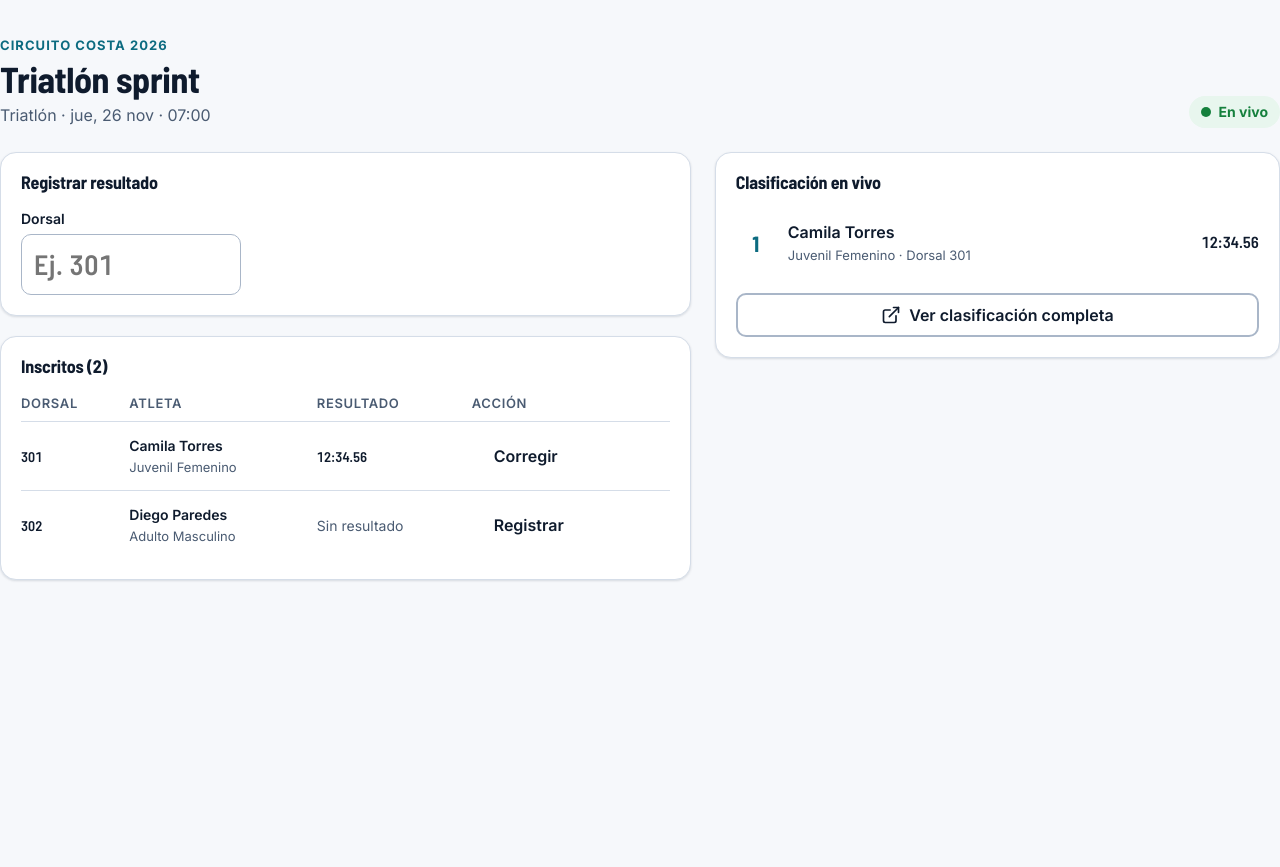
Test: RegistroTiemposPage › "Registrar" y "Corregir" cargan el dorsal en el formulario
Expected: the heading "Triatlón sprint" is shown, [0,59,211,99]
Step 1. Click the button with aria-label "Corregir resultado de Camila Torres" → click(526, 456), box [472,434,580,478]
(page scrolled)
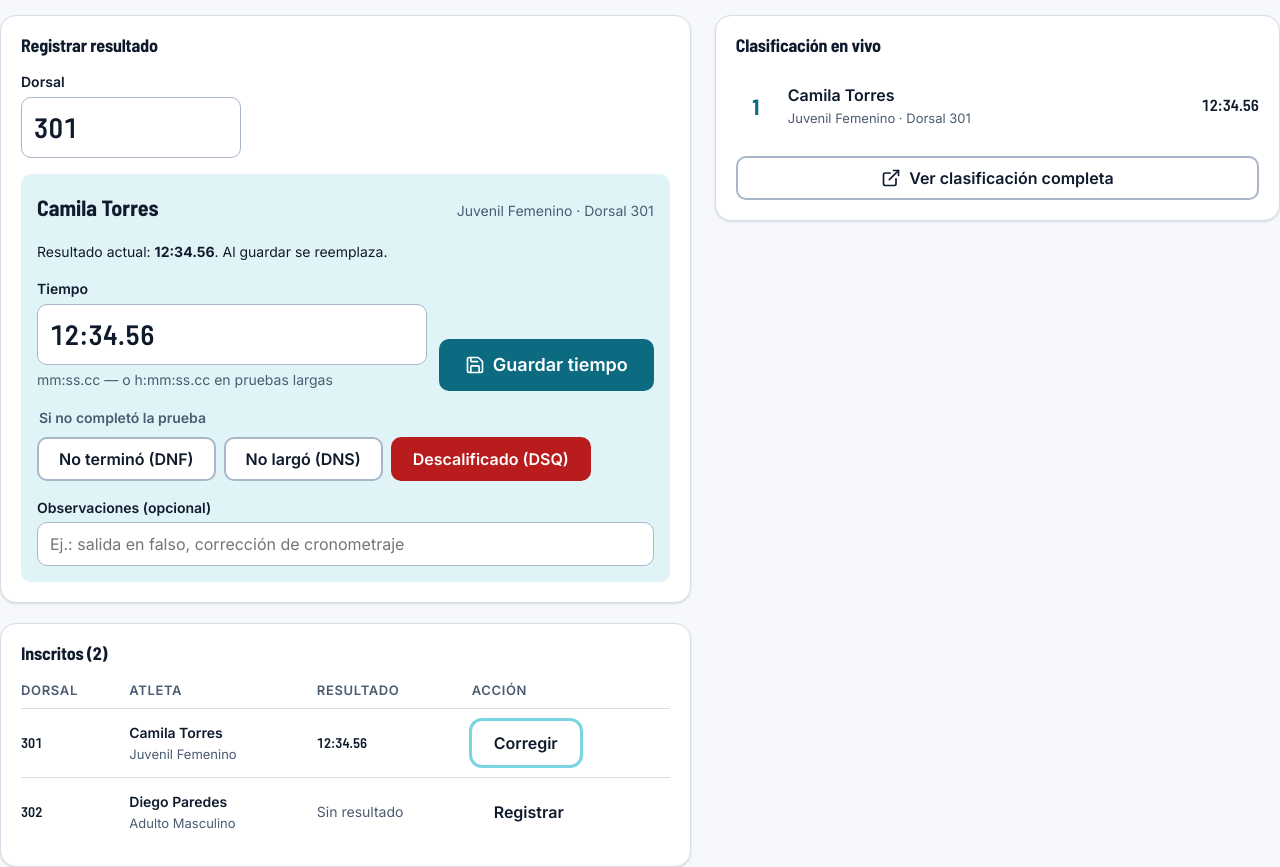
Expected: the field labelled "Dorsal" holds "301", [21,97,241,158]
Expected: the field labelled "Tiempo" holds "12:34.56", [37,304,427,365]
Step 2. Click the button with aria-label "Registrar resultado de Diego Paredes" → click(529, 812), box [472,790,586,834]
(page scrolled)
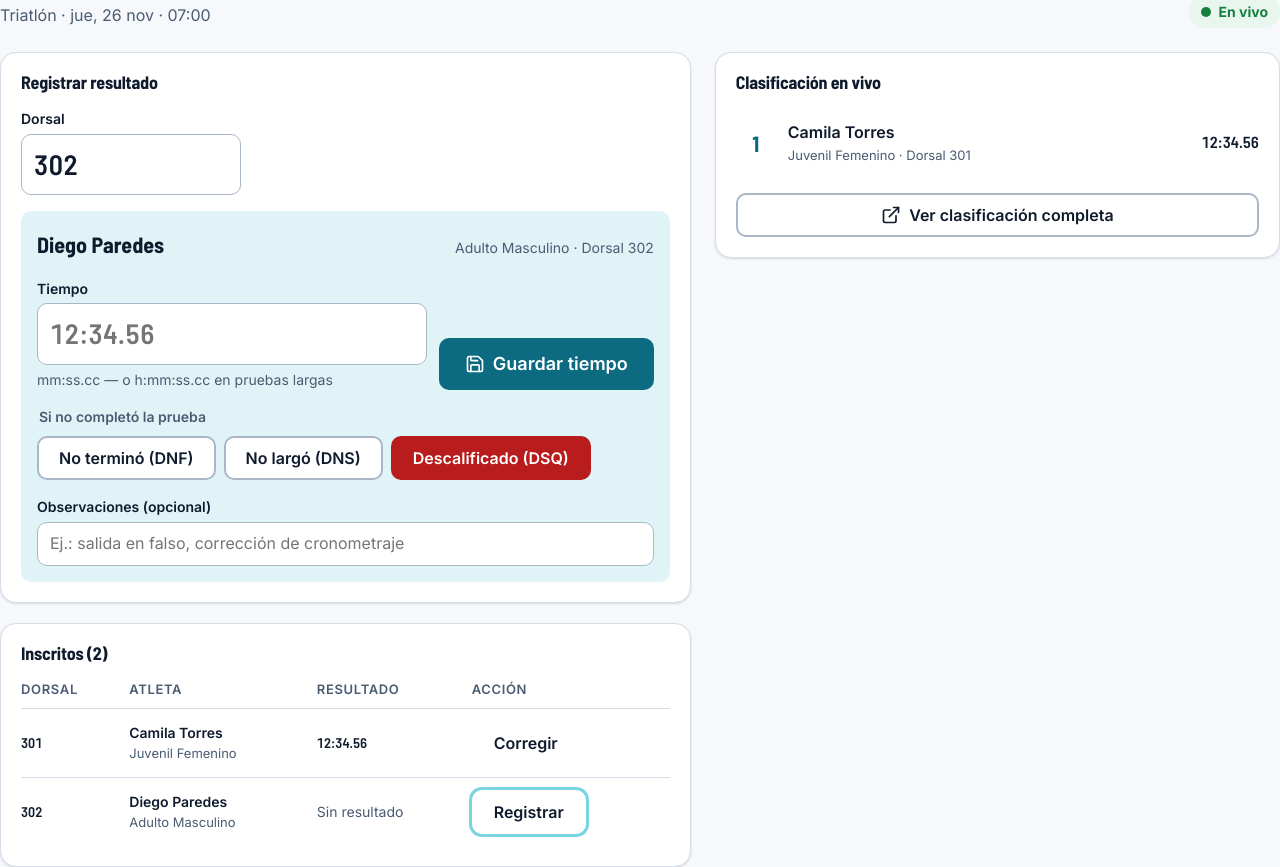
Expected: the field labelled "Dorsal" holds "302", [21,134,241,195]
Expected: the text "Diego Paredes" below "Registrar resultado" is shown, [37,231,164,257]
